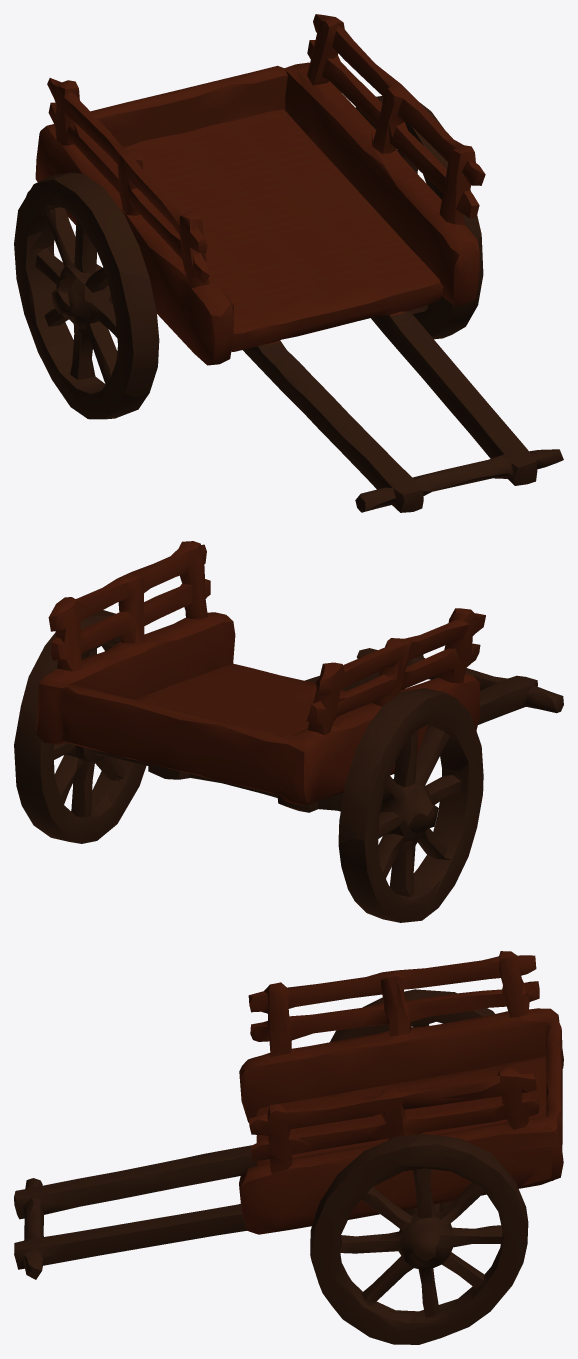
File: ENV_09_CART.glb
3 renders of one model, top to bottom at view 1: azimuth 30°, elevation 25°; view 2: azimuth 150°, elevation 25°; view 3: azimuth 270°, elevation 25°, orthographic. The views are drawn at different scales.
Visible parts, largest first — view 1: world; view 2: world; view 3: world.
Part boxes in pixels (<box>): world: <box>14,14,563,512</box>; world: <box>14,541,563,922</box>; world: <box>14,951,563,1344</box>.
Size of the model in its own units: 0.7226 by 0.5172 by 1.
Materials: 1 (1 with a texture image).
